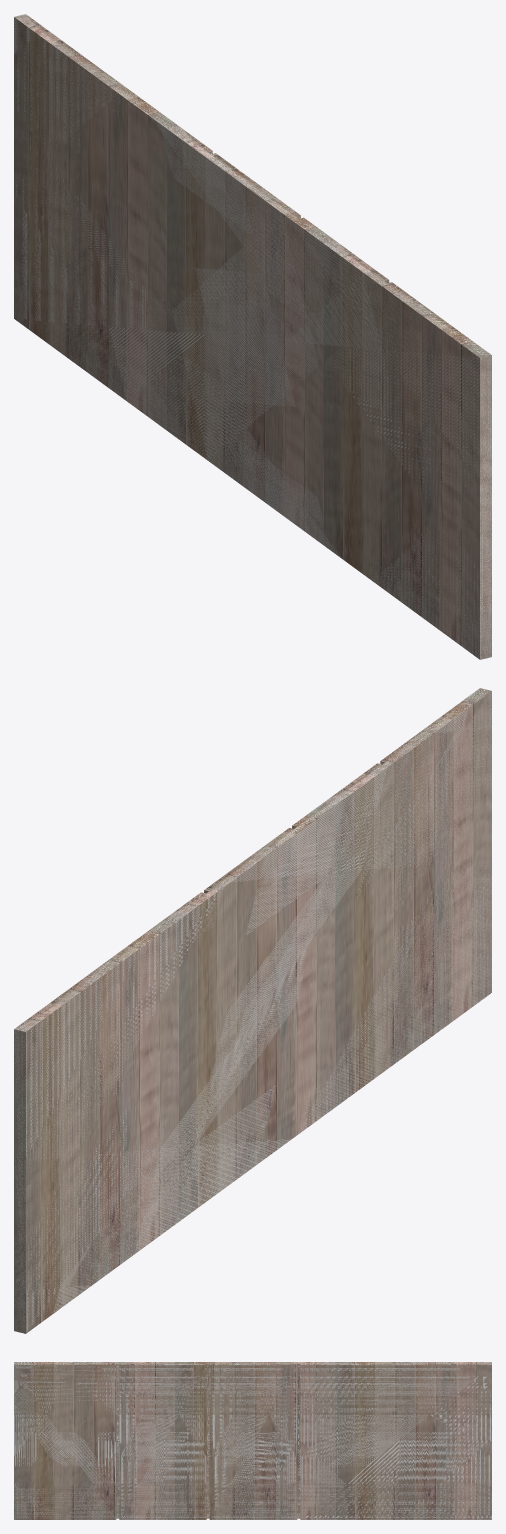
The model's file is original-77.obj.
3 renders of one model, top to bottom at view 1: azimuth 30°, elevation 25°; view 2: azimuth 150°, elevation 25°; view 3: azimuth 270°, elevation 25°, orthographic. The views are drawn at different scales.
Visible parts, largest first — view 1: Group_710_4/Group_710_1_2/mesh41/mesh41-geometry#mesh41-geometry; view 2: Group_710_4/Group_710_1_2/mesh41/mesh41-geometry#mesh41-geometry; view 3: Group_710_4/Group_710_1_2/mesh41/mesh41-geometry#mesh41-geometry.
Part boxes in pixels (<box>): Group_710_4/Group_710_1_2/mesh41/mesh41-geometry#mesh41-geometry: <box>14,14,491,659</box>; Group_710_4/Group_710_1_2/mesh41/mesh41-geometry#mesh41-geometry: <box>14,688,491,1333</box>; Group_710_4/Group_710_1_2/mesh41/mesh41-geometry#mesh41-geometry: <box>14,1362,491,1519</box>.
Size of the model in its own units: 0.0118 by 0.2857 by 0.7998.
